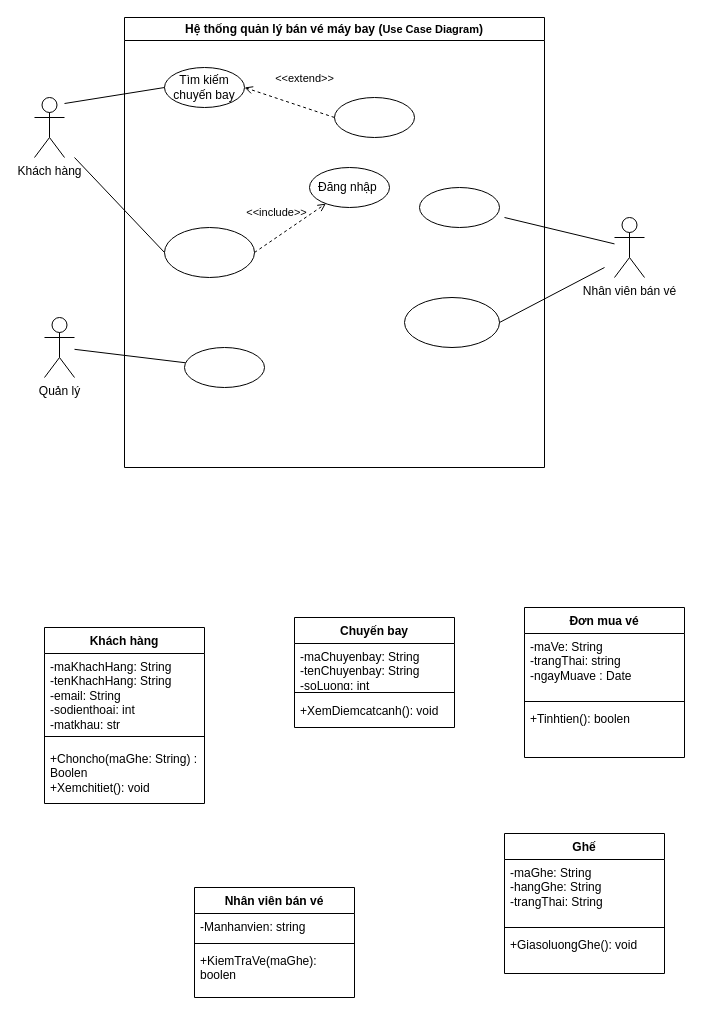
This 702x1018 diagram has some shape labels left out. The shapes that lost their labels are listed below. From the top down, each one's centre as x and y in pixels, then its label:
point (374, 117): Xem chi tiết vé
point (459, 207): thêm chuyến bay
point (209, 252): mua vé
point (452, 322): Cập nhật trạng thái vé
point (224, 367): Xem báo cáo
